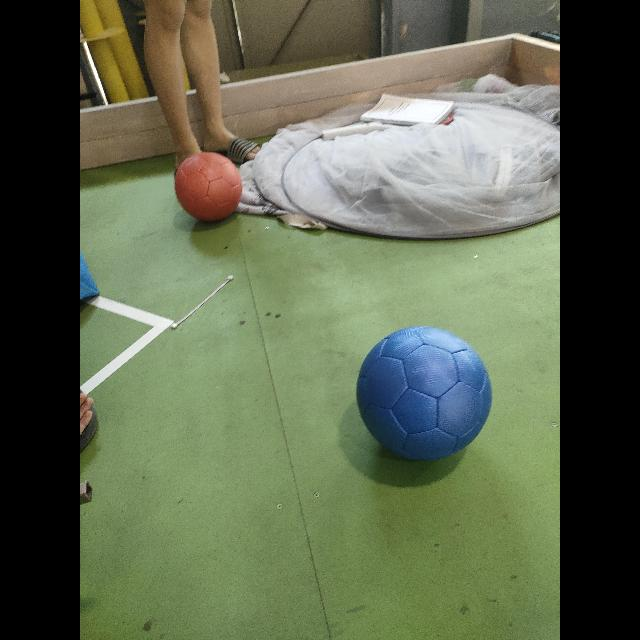B: (356, 327, 493, 464)
R: (174, 152, 243, 224)
